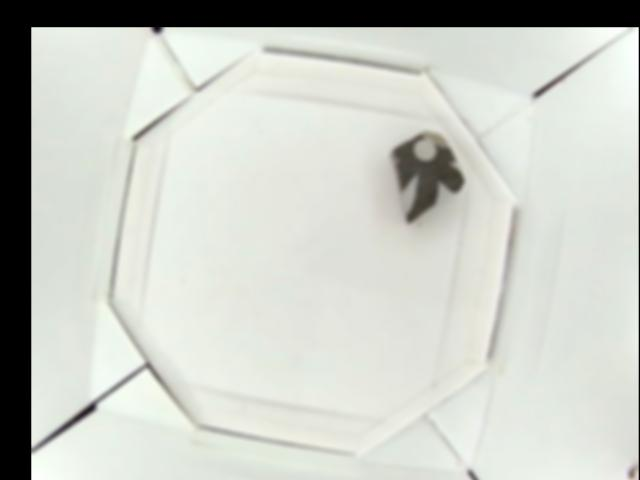China: (391, 132, 463, 223)
